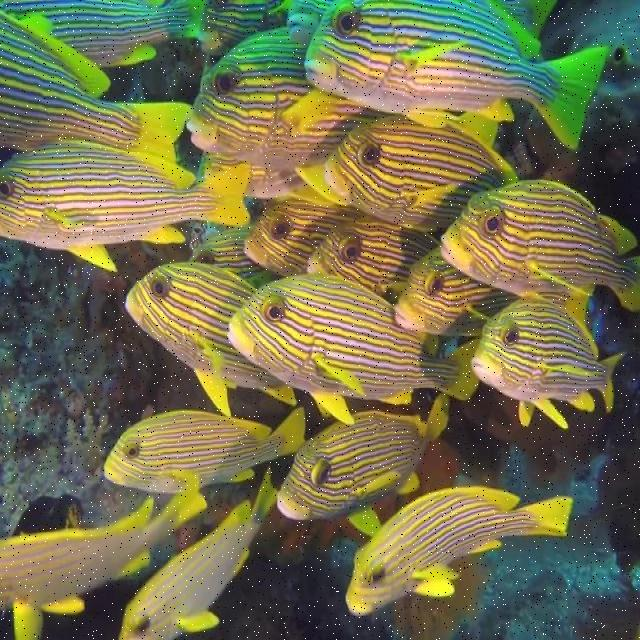fish: (305, 0, 609, 150), (186, 26, 398, 205), (228, 275, 481, 424), (1, 140, 251, 271), (0, 486, 206, 639), (345, 486, 575, 619), (0, 10, 192, 165), (440, 181, 639, 327), (117, 467, 277, 639), (125, 263, 297, 417), (277, 392, 448, 536), (324, 112, 519, 232), (471, 298, 629, 429), (104, 406, 306, 493), (1, 0, 207, 66), (307, 215, 451, 308), (394, 245, 522, 335), (244, 198, 365, 277), (194, 1, 334, 57), (188, 224, 285, 289)
